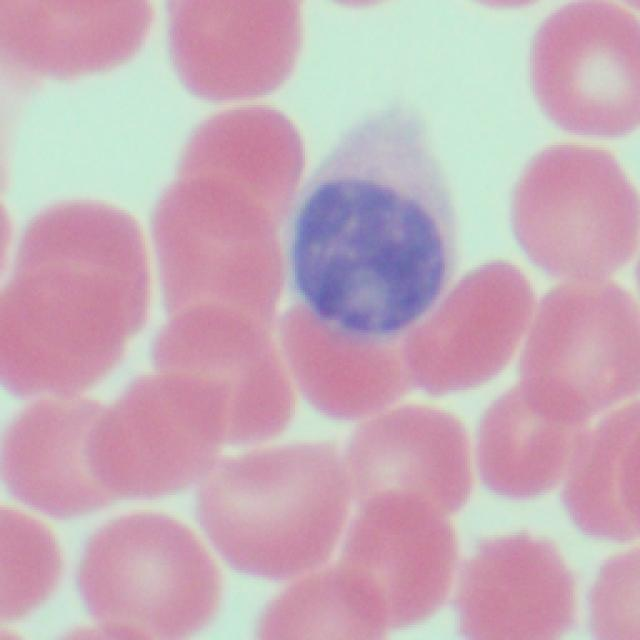RBC: (0, 178, 142, 422), (114, 323, 296, 448), (197, 429, 348, 579), (141, 170, 285, 316), (507, 138, 638, 291), (512, 135, 640, 283), (520, 270, 638, 429), (80, 503, 218, 637), (74, 509, 214, 639), (326, 495, 464, 615), (155, 105, 304, 214), (523, 0, 639, 139), (156, 0, 304, 103), (16, 203, 144, 322), (528, 0, 640, 134), (334, 410, 463, 526), (164, 0, 310, 102), (454, 521, 574, 639), (448, 527, 572, 638), (0, 0, 159, 84), (471, 383, 578, 503), (260, 562, 422, 640), (0, 0, 157, 78), (551, 406, 640, 542), (3, 1, 162, 75), (0, 505, 57, 625), (587, 545, 640, 638)
WBC: (287, 132, 458, 388)
